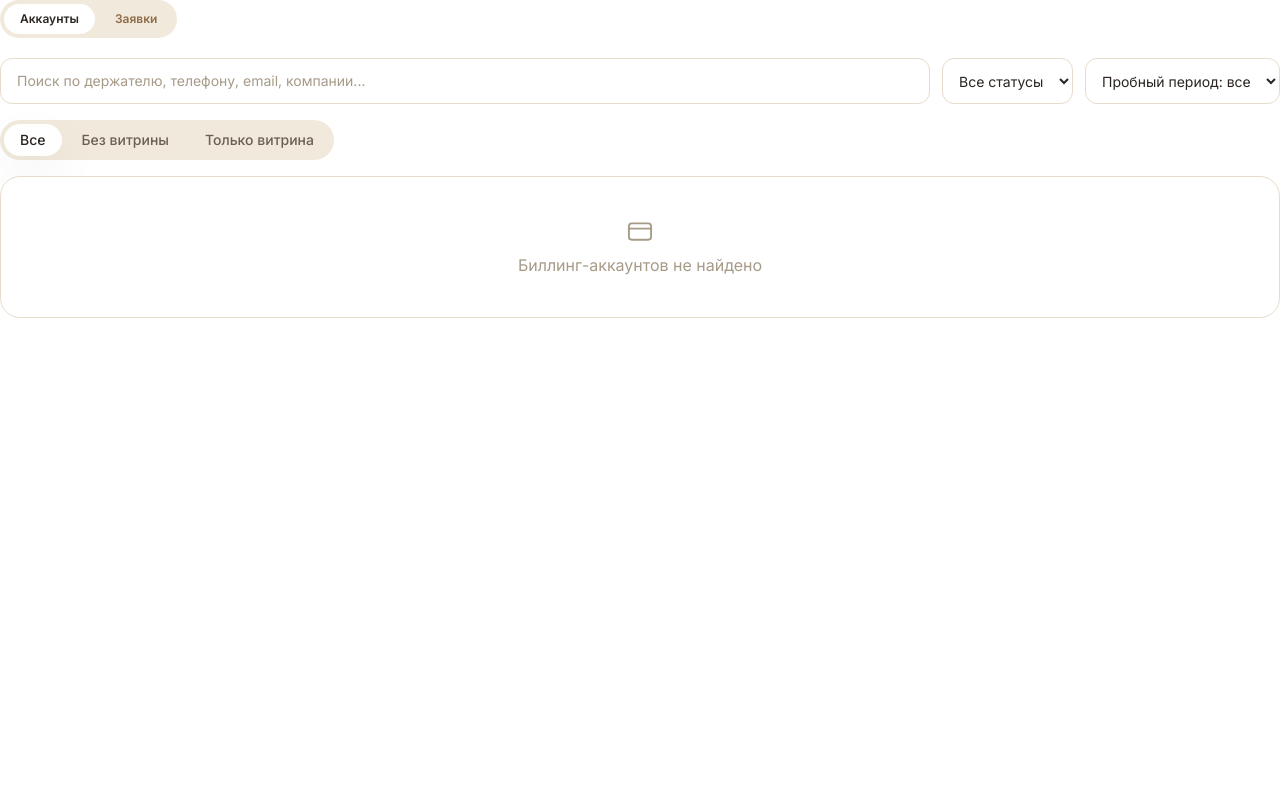
Test: BillingAccountsAdminTab — retiredOptionsNotice in the requests queue (cycle 19) › shows the notice in the approval modal BEFORE the confirm button, built from the option catalog
The width and height of the screenshot is (1280, 800).
Click the button "Заявки". click: (136, 19)
box: [99, 4, 173, 34]
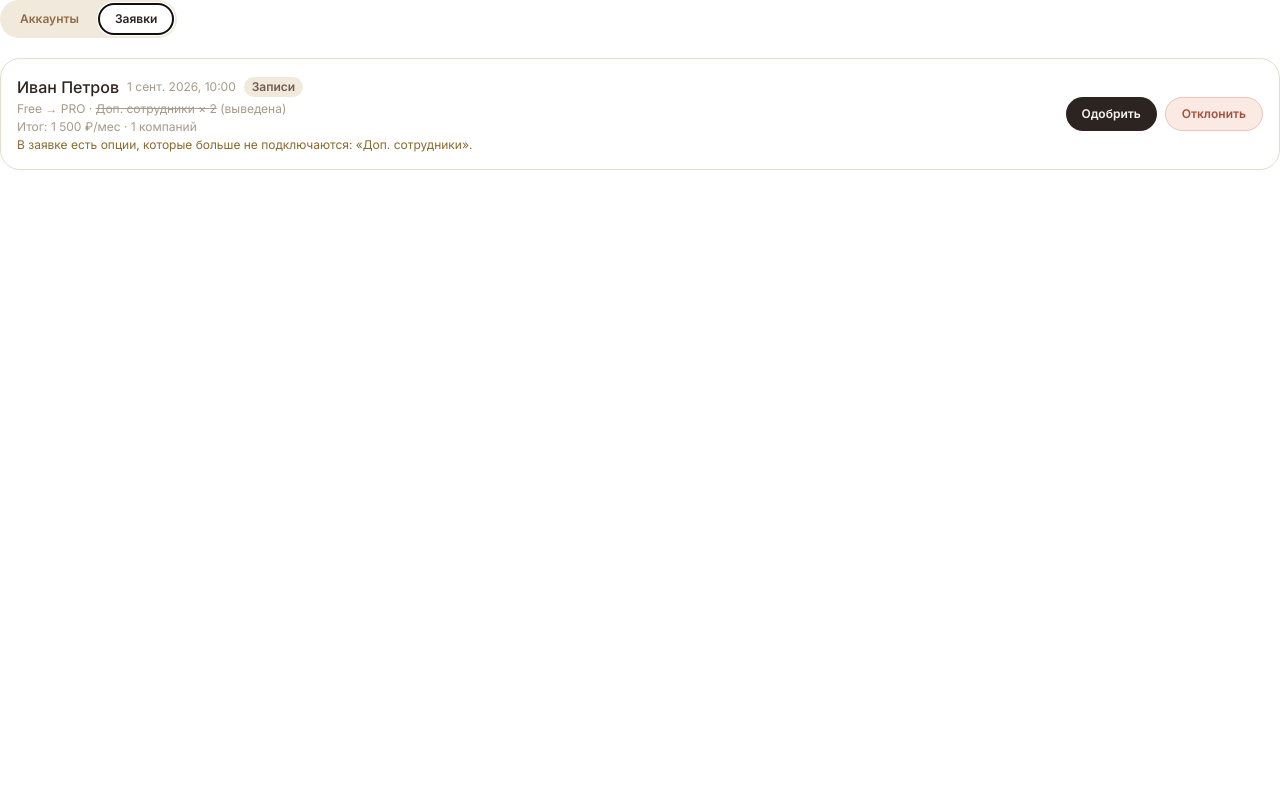
Expected: the text "Иван Петров" is shown, [17, 75, 119, 99]
Click the button "Одобрить". click: (1111, 114)
box: [1066, 97, 1157, 131]
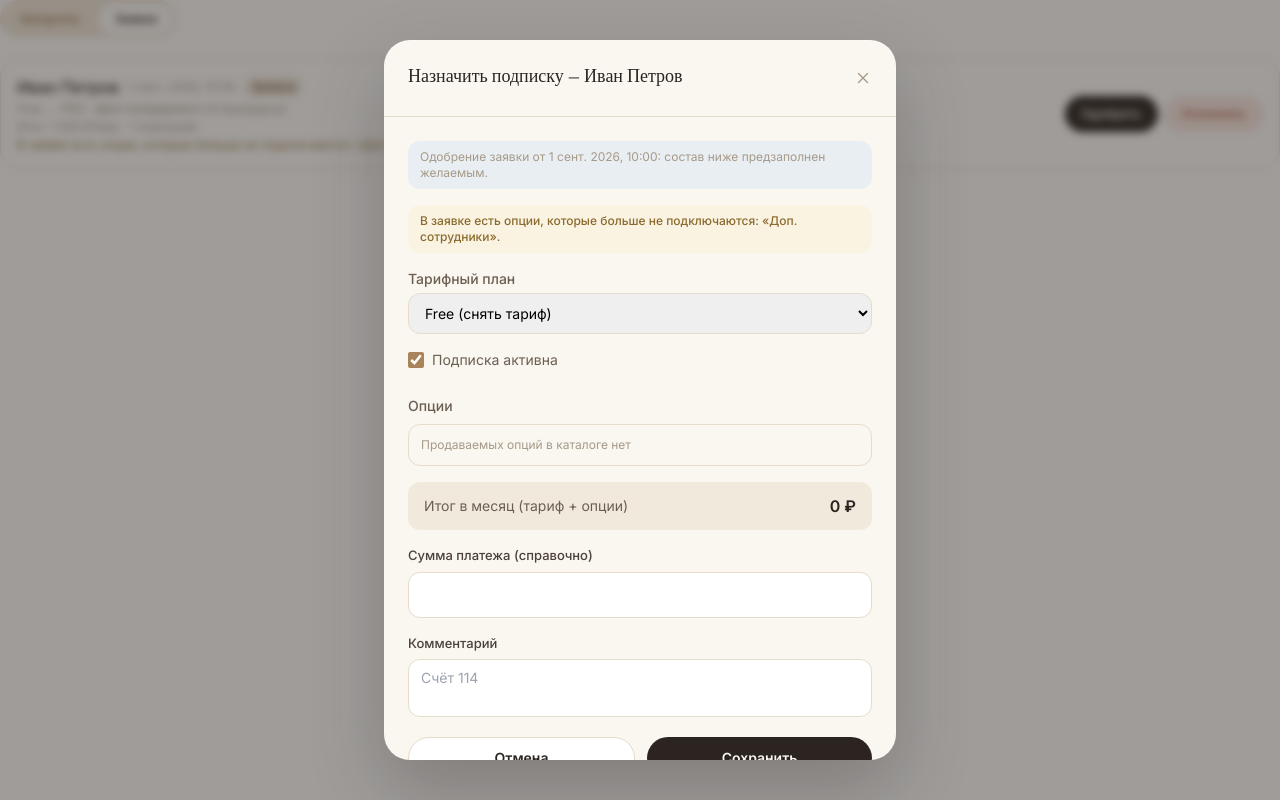
Expected: the text "Тарифный план" is shown, [408, 270, 515, 287]
Expected: the text "В заявке есть опции, которые больше не подключаются: «Доп. сотрудники»." is shown 2 times, [408, 205, 872, 253]; [17, 137, 472, 153]
